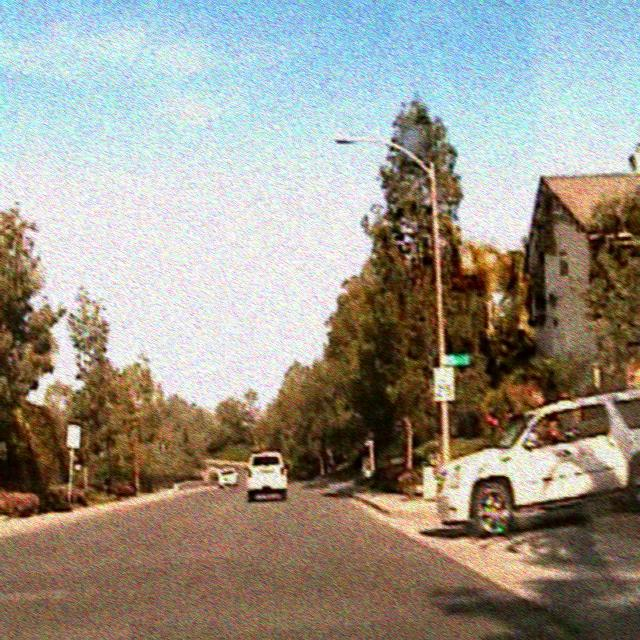speedLimit25: (434, 366, 456, 402)
